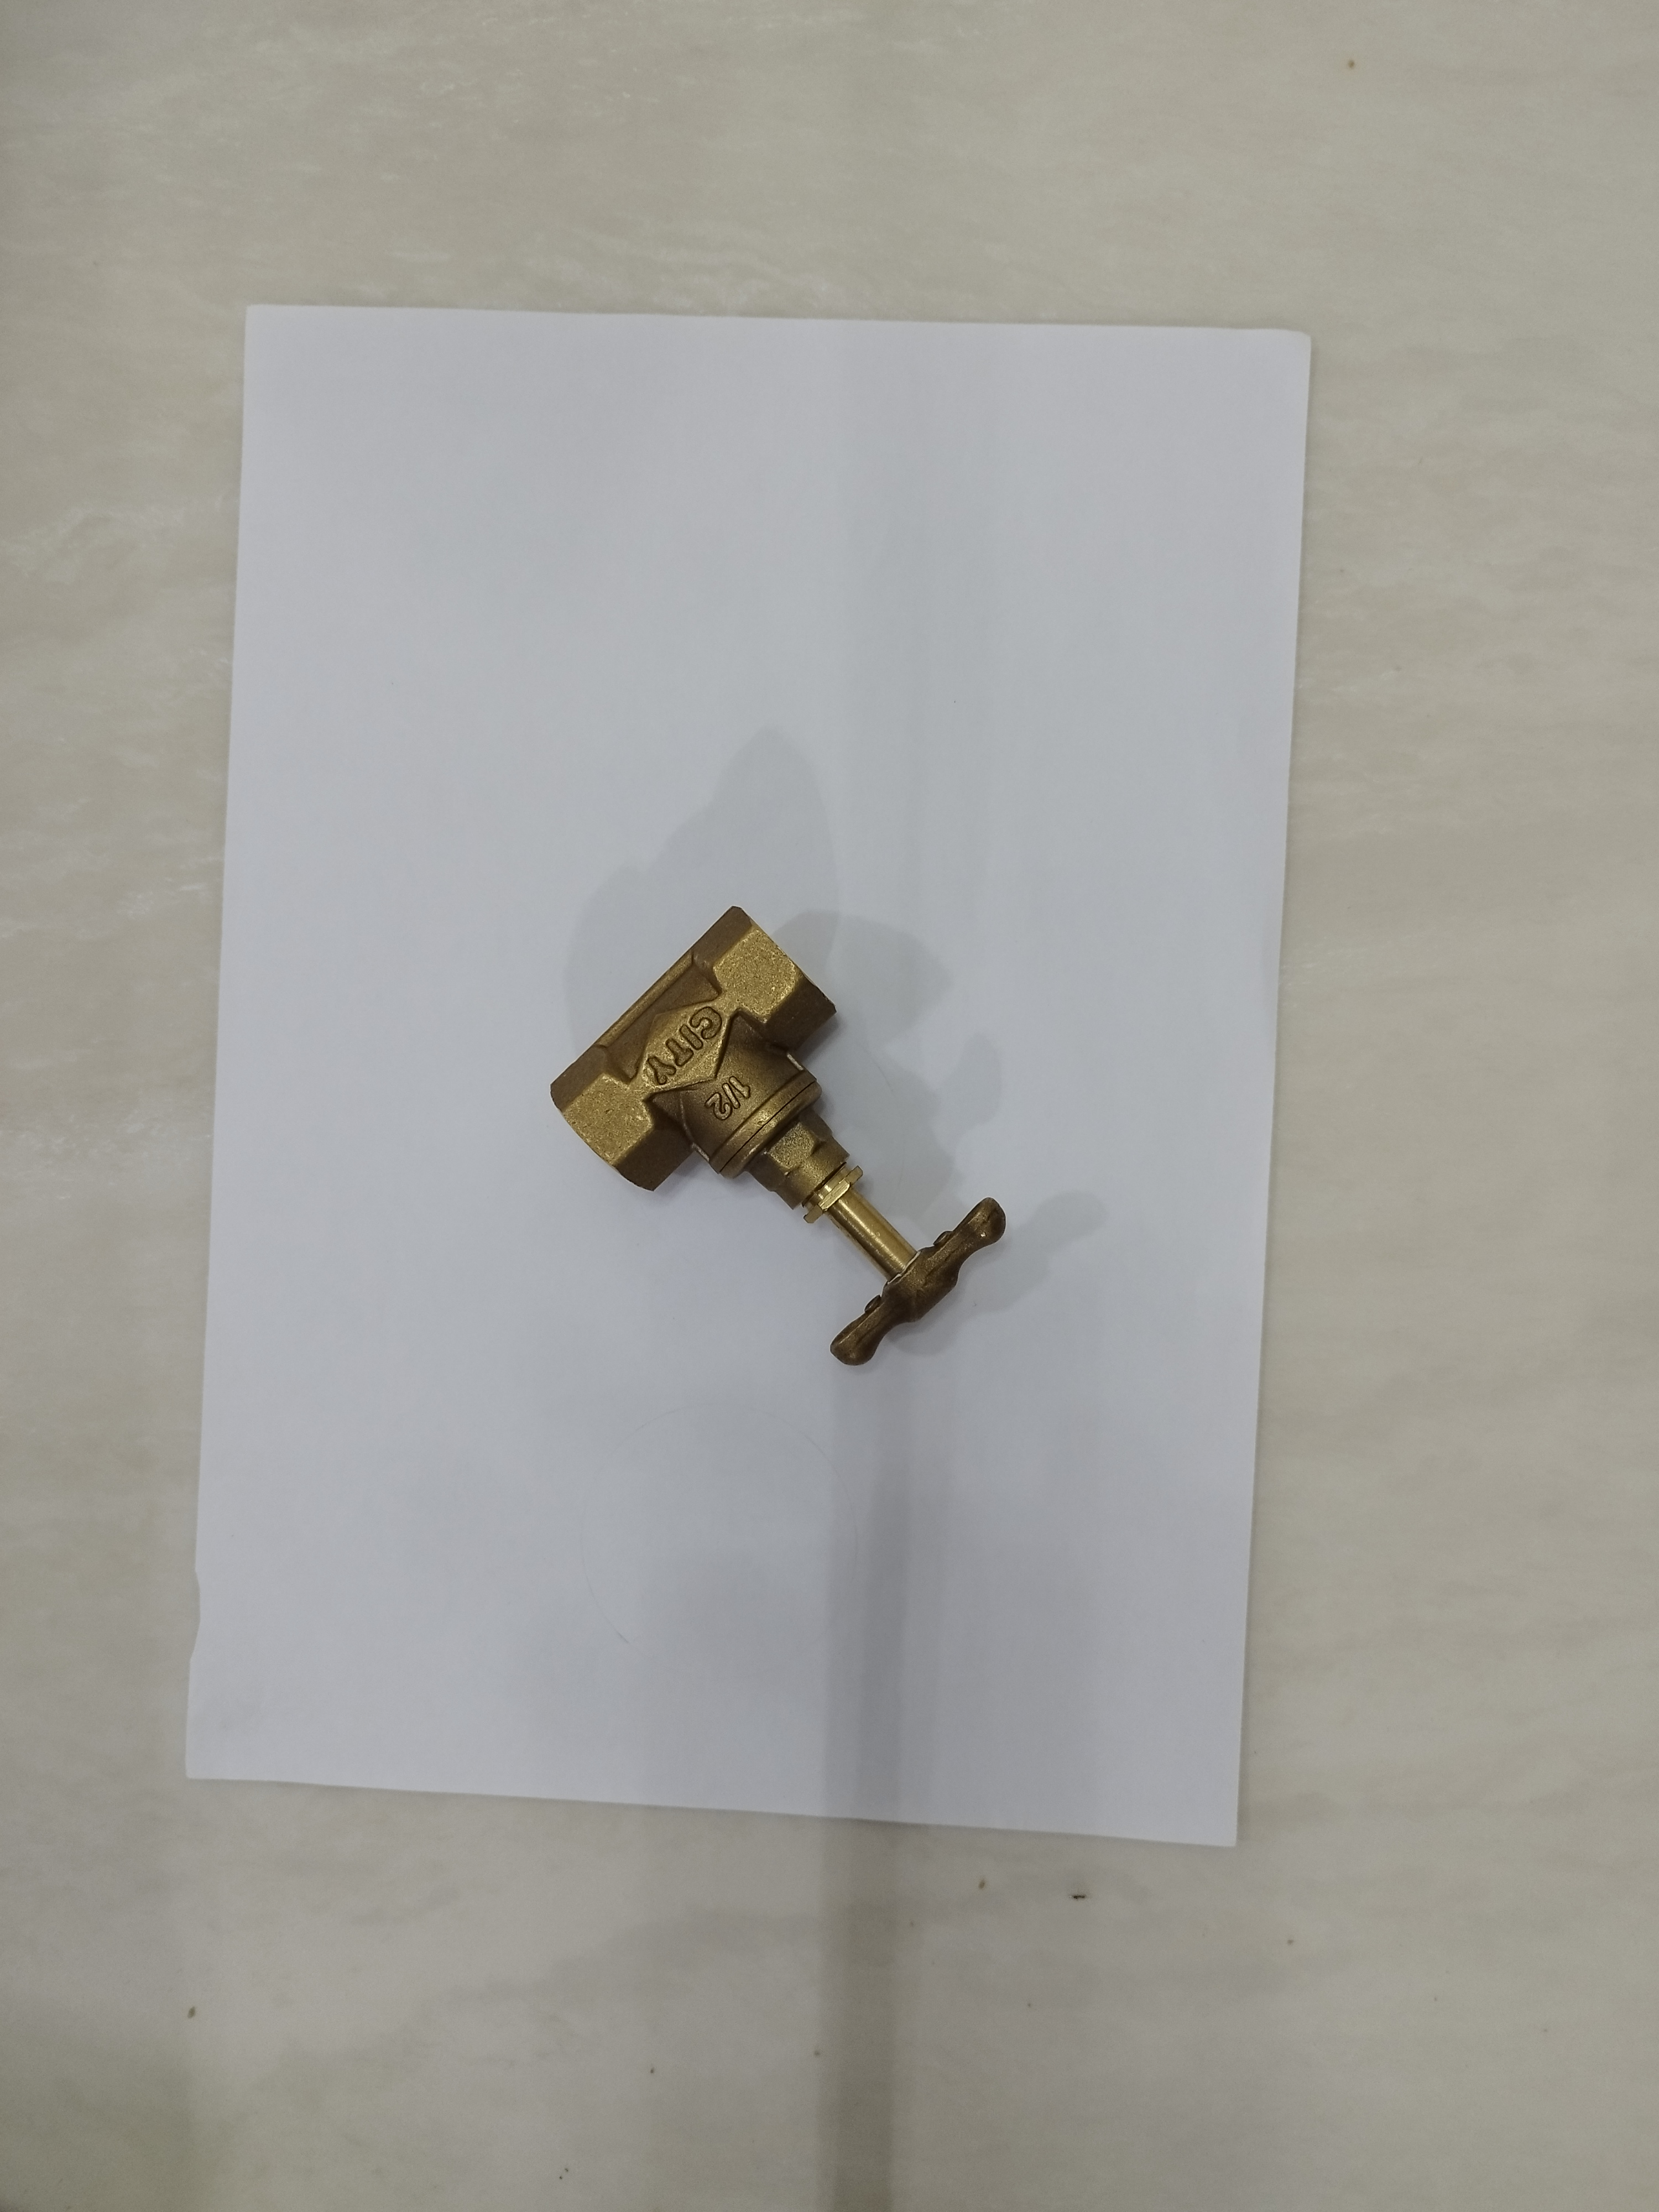brass_gate_valve: (535, 897, 1018, 1374)
